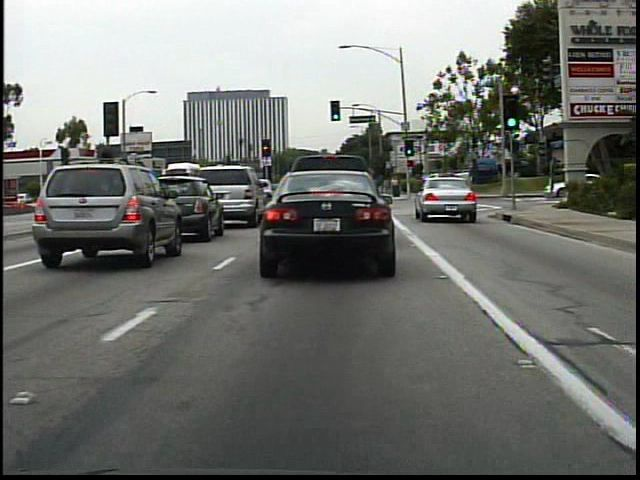person: (389, 175, 403, 200)
